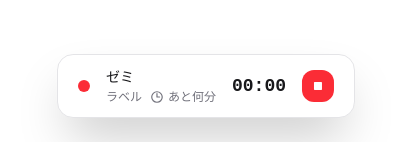
Scenario: 浮いているタイマーの「あと何分」 › 予定から ▶ したときは、その予定の終わりも選べる
Click the button "あと何分".
click(183, 97)  # box [146,89,220,105]
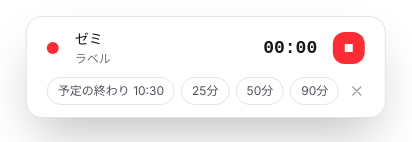
Click the button "予定の終わり 10:30".
click(111, 91)  # box [47,77,175,105]
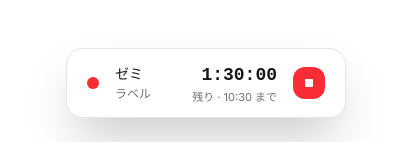
Check: the button "残り · 10:30 まで" is shown, box [188,89,281,105]
